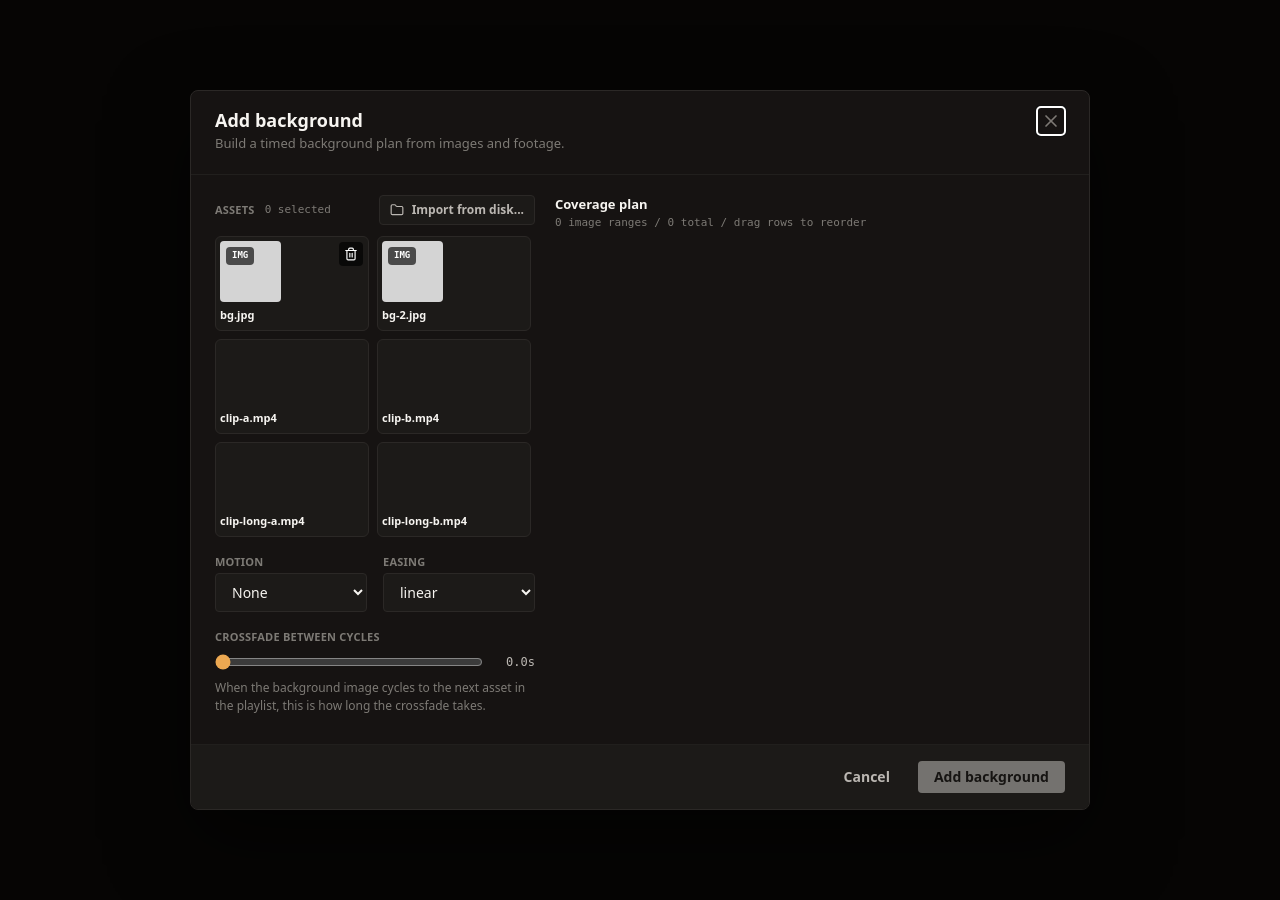
it: BgModal › renders create mode and selected metadata
Expected: the heading "Add background" is shown, x1=215 y1=108 x2=363 y2=132
What coordinates should you click on to do the following:
click the button "IMG bg.jpg"
I would click on:
 (292, 284)
Its box is x1=215 y1=236 x2=369 y2=331.
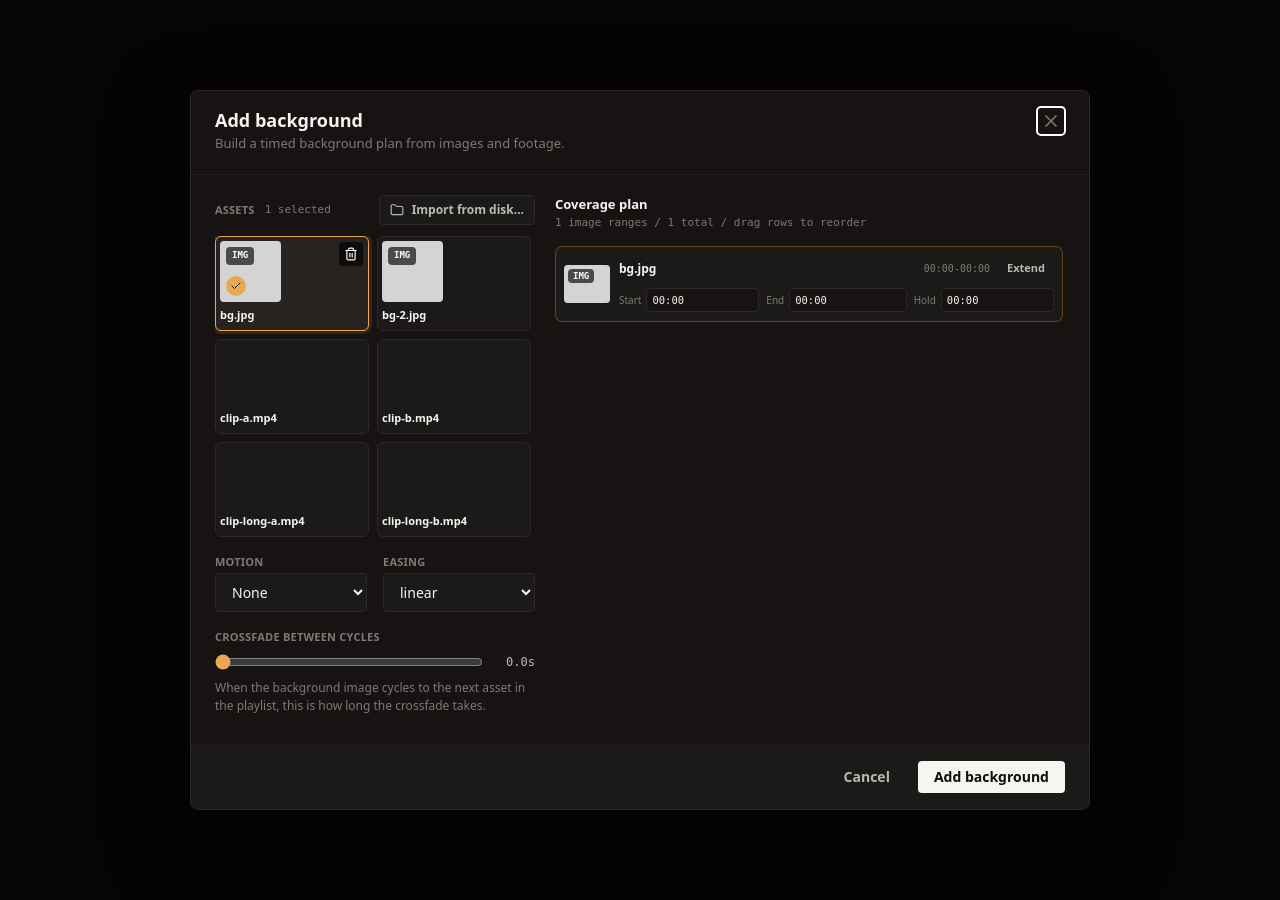
Expected: the text "1 selected" is shown, x1=265 y1=202 x2=331 y2=218
Expected: the button "Add background" is enabled, x1=918 y1=761 x2=1065 y2=793
